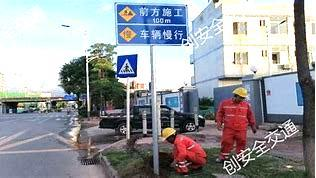sign: (114, 3, 189, 47)
